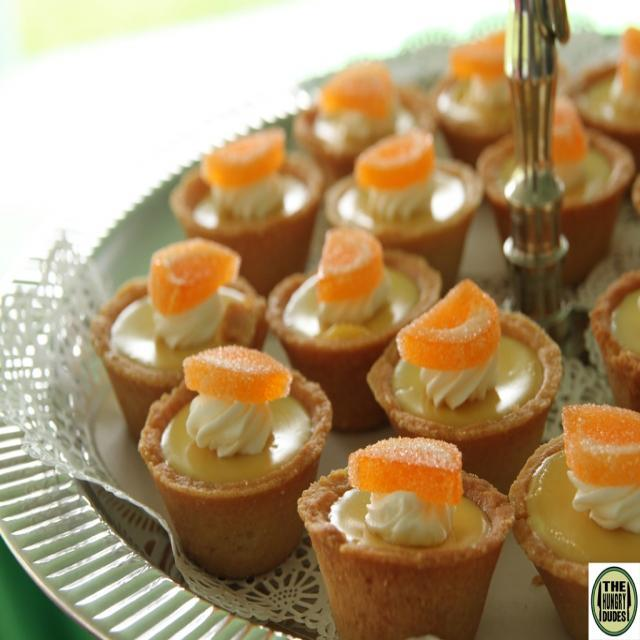Muffin: (90, 23, 640, 639)
